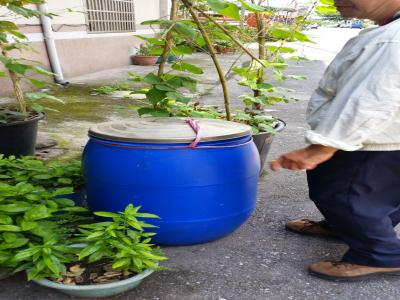bucket: (79, 113, 263, 247)
